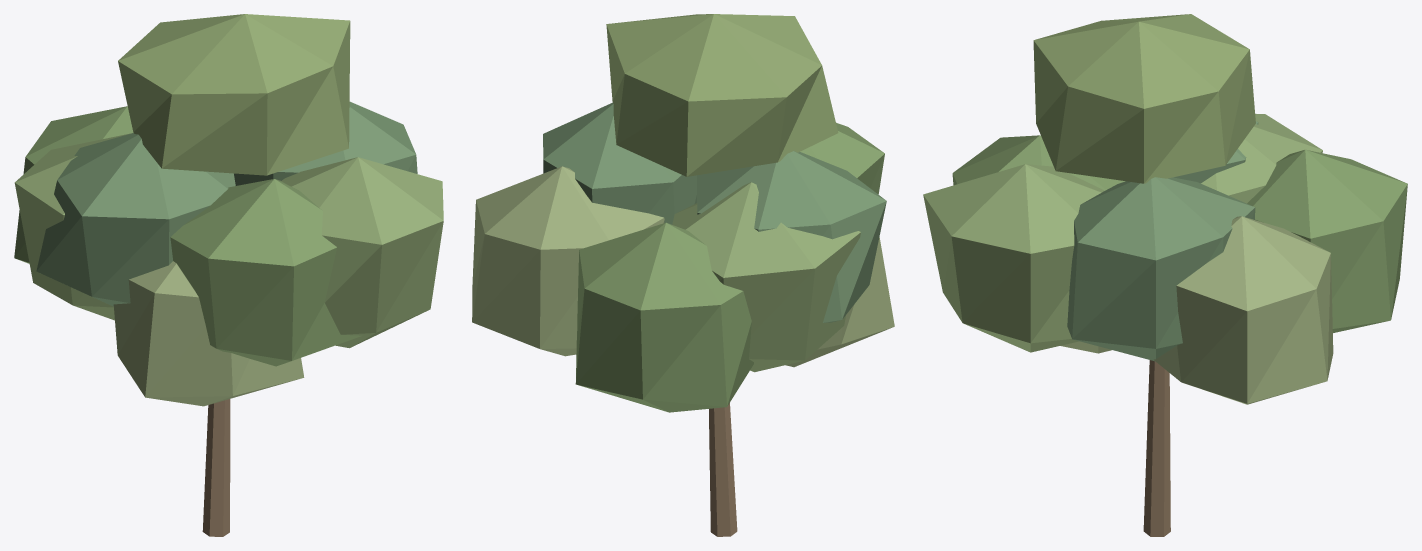
3 views of the same model, side by side, from view 1: azimuth 30°, elevation 25°; view 2: azimuth 150°, elevation 25°; view 3: azimuth 270°, elevation 25° (orthographic). The views are drawn at different scales.
Bounding box in the file's own units: 8.01 × 10.94 × 9.25.
